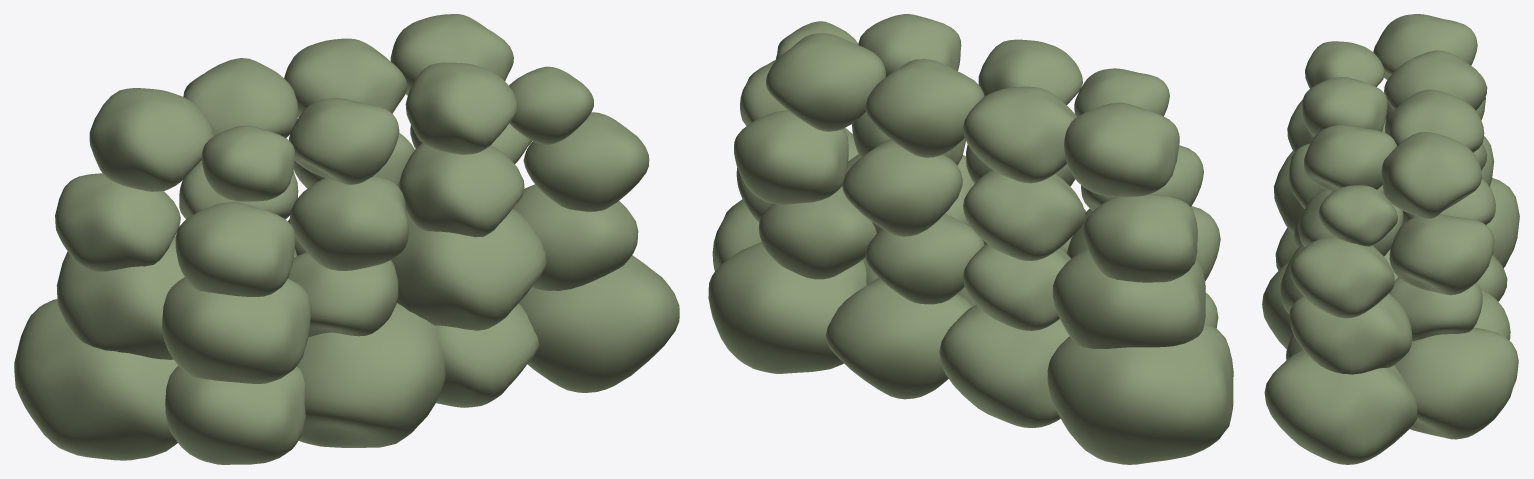
File: rockPile.fbx
3 renders of one model, left to right at view 1: azimuth 30°, elevation 25°; view 2: azimuth 150°, elevation 25°; view 3: azimuth 270°, elevation 25°, orthographic. The views are drawn at different scales.
Parts seen in each view (by area): view 1: Sphere.031; view 2: Sphere.031; view 3: Sphere.031.
Boxes of the visible parts, left/top/right/bottom form: Sphere.031: left=14, top=14, right=679, bottom=464; Sphere.031: left=708, top=14, right=1233, bottom=464; Sphere.031: left=1262, top=14, right=1519, bottom=464.
Size of the model in its own units: 1079 by 620 by 505.
